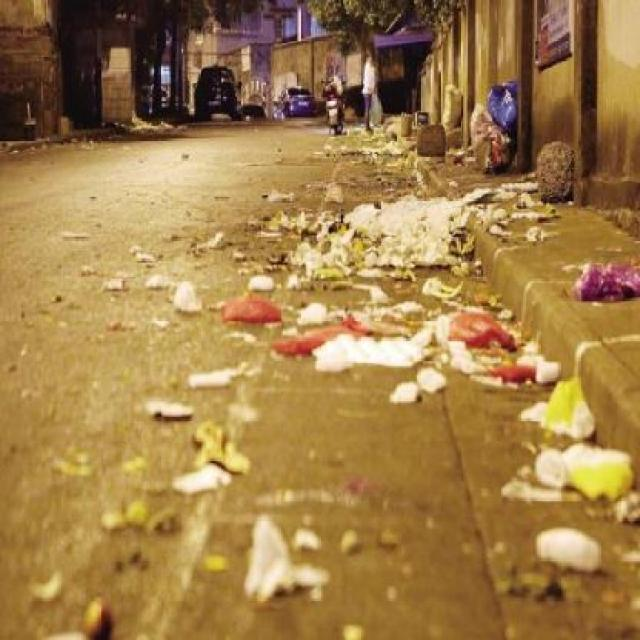garbage: (268, 180, 479, 306), (516, 383, 639, 587), (273, 297, 552, 386), (147, 392, 256, 503), (245, 509, 312, 613), (107, 269, 206, 326), (486, 182, 563, 250), (469, 89, 520, 174), (329, 128, 418, 176), (216, 279, 280, 322), (568, 260, 639, 298), (419, 100, 466, 154), (129, 112, 183, 140)
